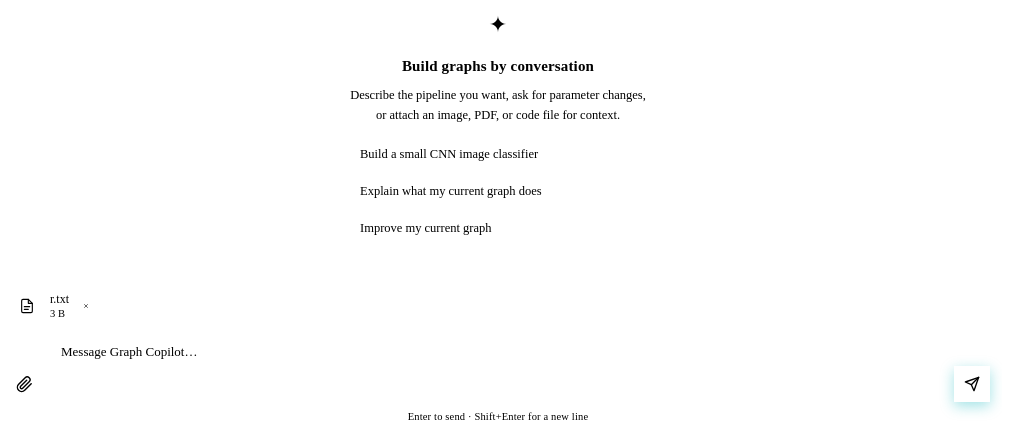
Scenario: ChatView interactions › removes a staged attachment when its remove button is clicked
Expected: the text "r.txt" is shown, [50,292,69,307]
What coordinates should you click on to do the following:
click the button named "remove r.txt"
I would click on:
 (86, 306)
Its box is [77,297,95,315].
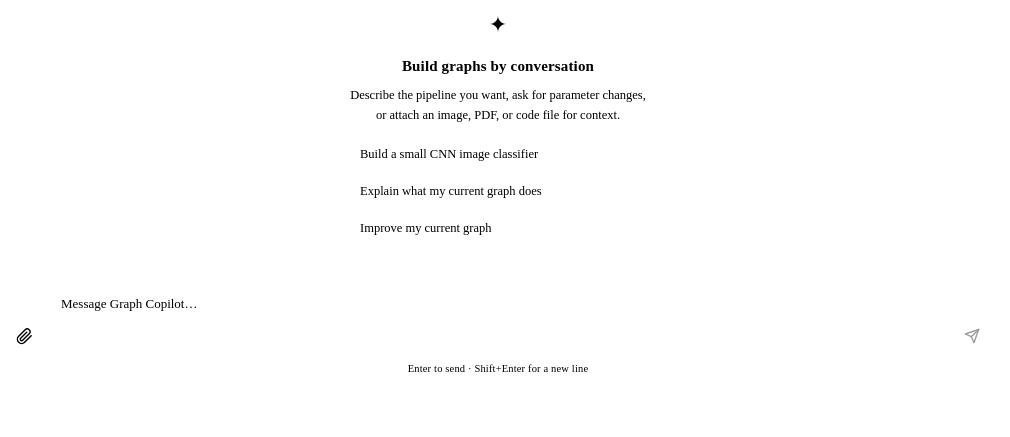
Result: the text "r.txt" is gone
